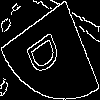D: (25, 25, 68, 79)
